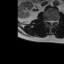CCS_normal: (50, 18, 52, 27)
LFS_stenosis: (54, 19, 56, 24)
LLS_normal: (52, 19, 54, 25)
RFS_stenosis: (46, 18, 48, 24)
RLS_normal: (48, 18, 50, 24)
